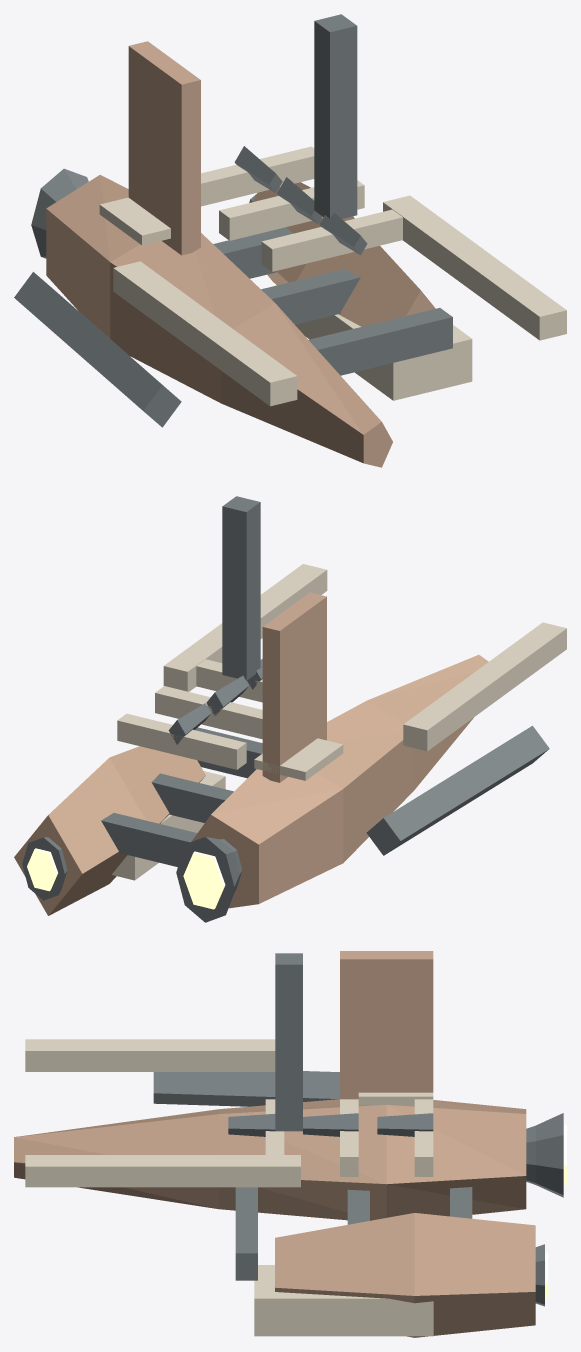
The picture shows the model from 3 angles, top to bottom: view 1: azimuth 30°, elevation 25°; view 2: azimuth 150°, elevation 25°; view 3: azimuth 270°, elevation 25°; orthographic projection. The views are drawn at different scales.
Size of the model in its own units: 6.97 by 6.64 by 9.63.
